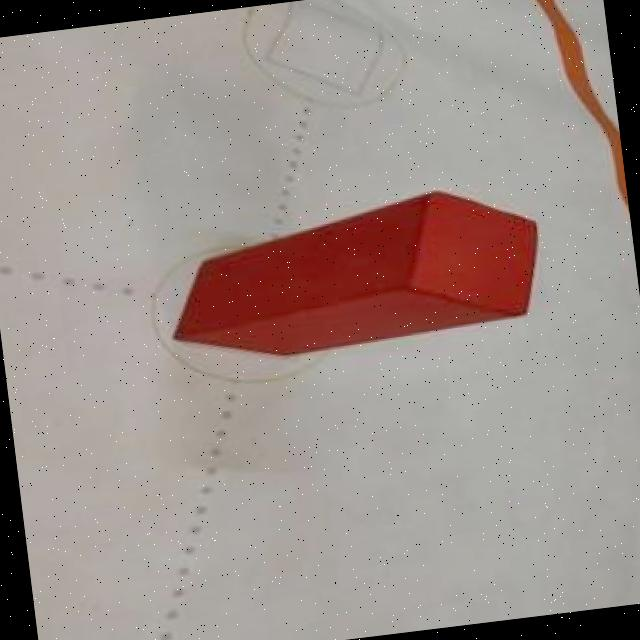redbox: (157, 178, 552, 370)
